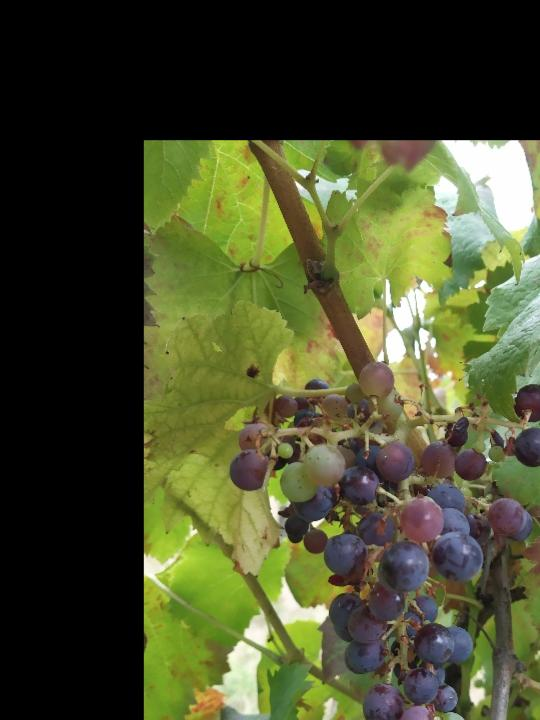grape: (232, 357, 540, 720)
